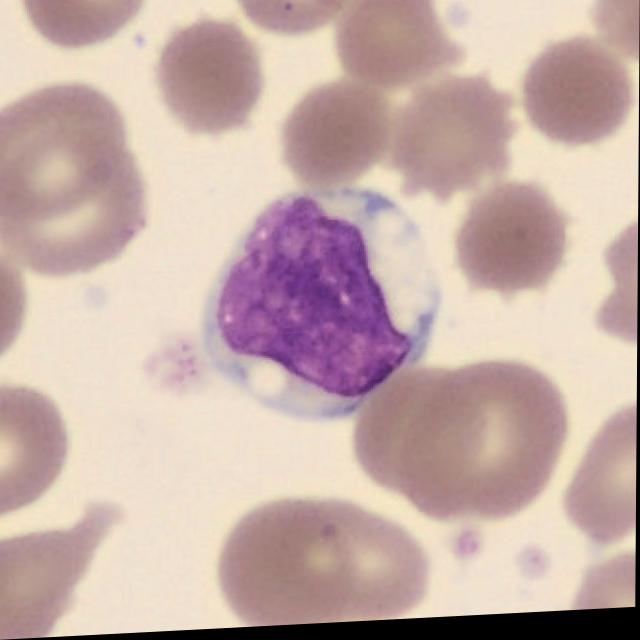Linfocito: (198, 189, 442, 422)
